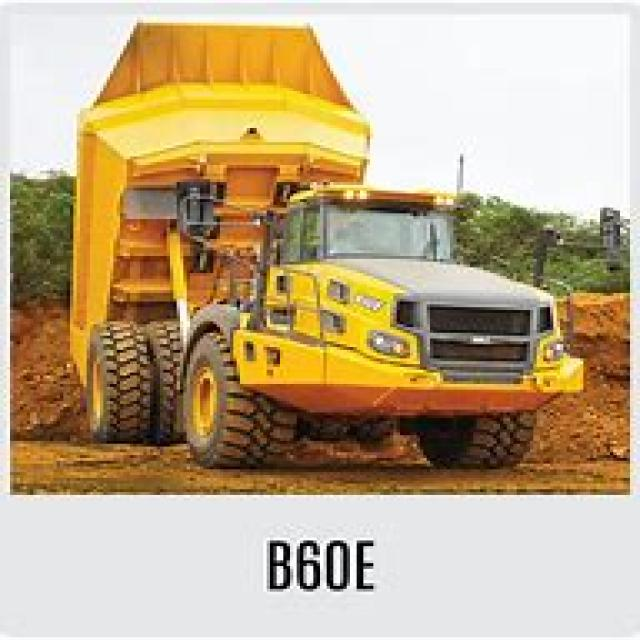dump_truck: (30, 14, 597, 475)
